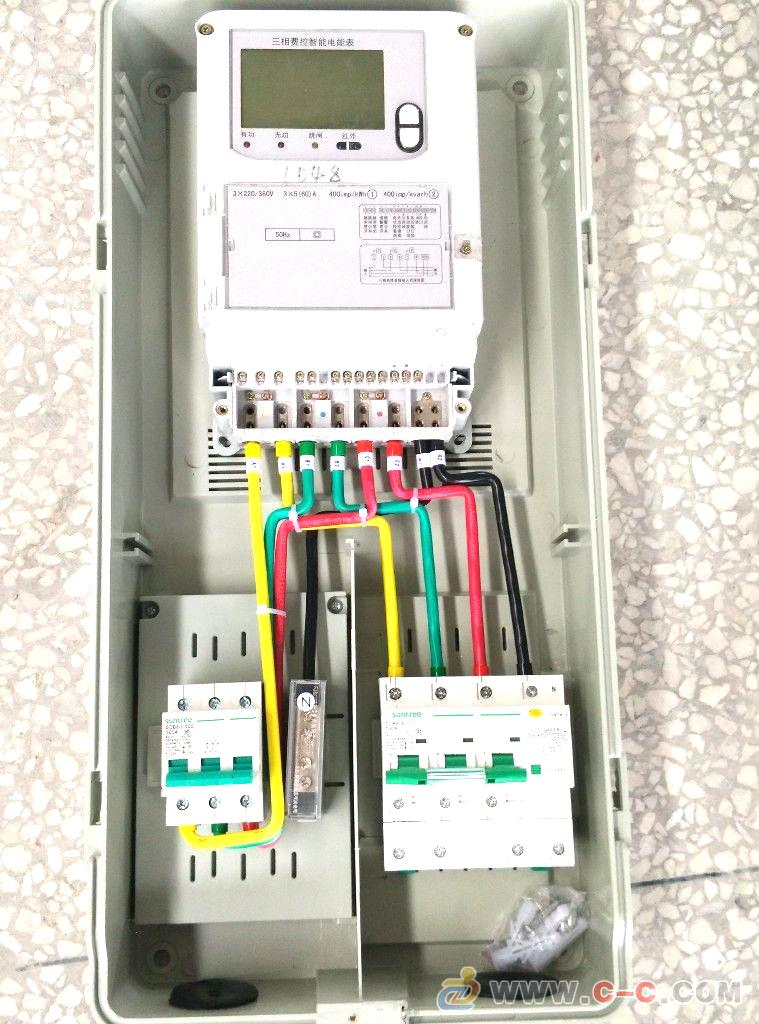digital: (198, 11, 484, 332)
